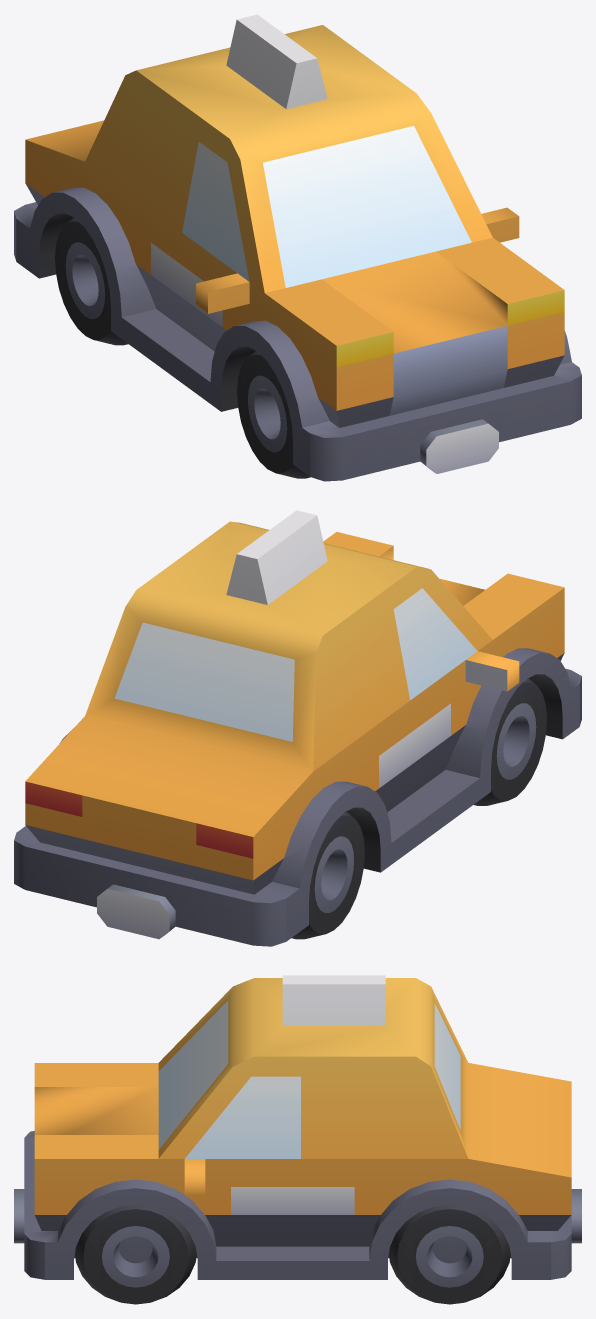
The model's file is taxi.glb.
3 renders of one model, top to bottom at view 1: azimuth 30°, elevation 25°; view 2: azimuth 150°, elevation 25°; view 3: azimuth 270°, elevation 25°, orthographic. The views are drawn at different scales.
Parts seen in each view (by area): view 1: body, wheel-front-right, wheel-back-right; view 2: body, wheel-back-right, wheel-front-right; view 3: body, wheel-back-left, wheel-front-left.
Part boxes in pixels (<box>): body: <box>14,14,581,481</box>; wheel-front-right: <box>237,350,310,478</box>; wheel-back-right: <box>55,217,128,345</box>; body: <box>14,510,581,946</box>; wheel-back-right: <box>291,811,364,939</box>; wheel-front-right: <box>473,678,546,805</box>; body: <box>14,975,581,1279</box>; wheel-back-left: <box>388,1205,510,1304</box>; wheel-front-left: <box>75,1205,196,1304</box>.
Size of the model in its own units: 1.5 by 1.5 by 2.75.
Materials: 1 (1 with a texture image).
